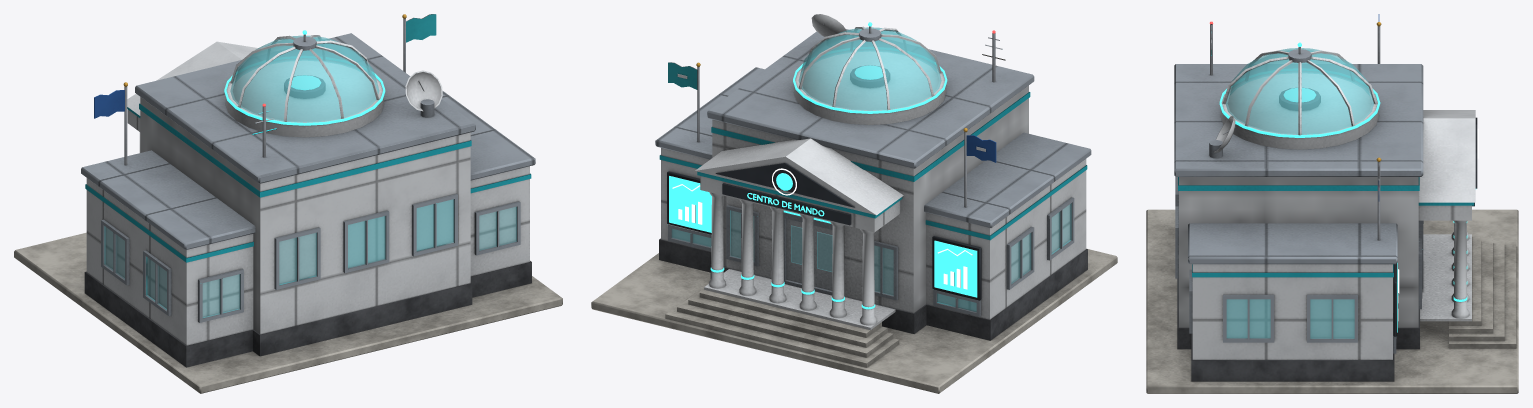
Rendered from centro_mando.fbx.
3 views of the same model, side by side, from view 1: azimuth 30°, elevation 25°; view 2: azimuth 150°, elevation 25°; view 3: azimuth 270°, elevation 25° (orthographic). The views are drawn at different scales.
Parts seen in each view (by area): view 1: centro_mando, centro_mando_cristal, centro_mando_neon, centro_mando_bandera_der, centro_mando_bandera_izq; view 2: centro_mando, centro_mando_cristal, centro_mando_pantallas_neon, centro_mando_neon, centro_mando_puerta_der, centro_mando_puerta_izq, centro_mando_blanco_luz, centro_mando_bandera_der, centro_mando_bandera_izq; view 3: centro_mando, centro_mando_cristal, centro_mando_neon, centro_mando_pantallas_neon.
Part boxes in pixels (<box>): centro_mando: <box>14,14,562,393</box>; centro_mando_cristal: <box>104,35,516,317</box>; centro_mando_neon: <box>224,30,385,125</box>; centro_mando_bandera_der: <box>94,90,124,118</box>; centro_mando_bandera_izq: <box>406,14,436,42</box>; centro_mando: <box>591,14,1117,393</box>; centro_mando_cristal: <box>672,27,1071,311</box>; centro_mando_pantallas_neon: <box>669,65,977,297</box>; centro_mando_neon: <box>710,22,947,309</box>; centro_mando_puerta_der: <box>813,225,832,290</box>; centro_mando_puerta_izq: <box>786,219,802,283</box>; centro_mando_blanco_luz: <box>672,168,972,289</box>; centro_mando_bandera_der: <box>966,135,996,162</box>; centro_mando_bandera_izq: <box>668,62,697,89</box>; centro_mando: <box>1146,22,1518,393</box>; centro_mando_cristal: <box>1225,48,1373,338</box>; centro_mando_neon: <box>1219,42,1467,301</box>; centro_mando_pantallas_neon: <box>1284,88,1397,332</box>.
Bounding box in the file's own units: 18 × 12.48 × 16.
3 materials, 3 textured.
